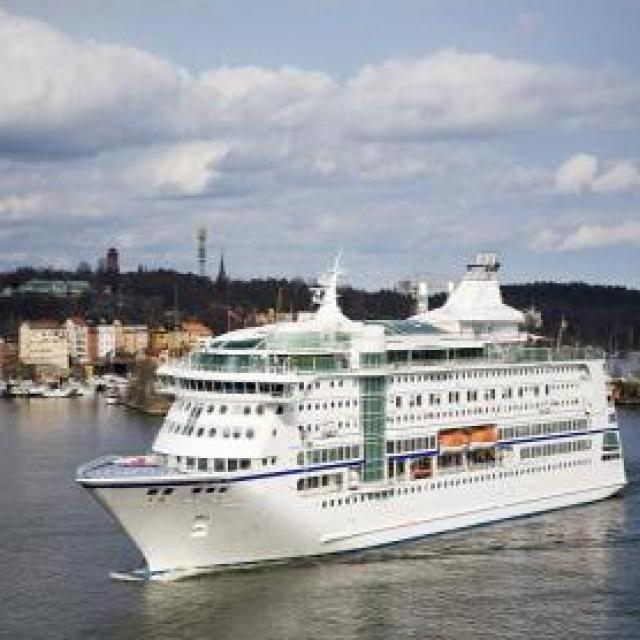passenger ship: (69, 262, 629, 570)
